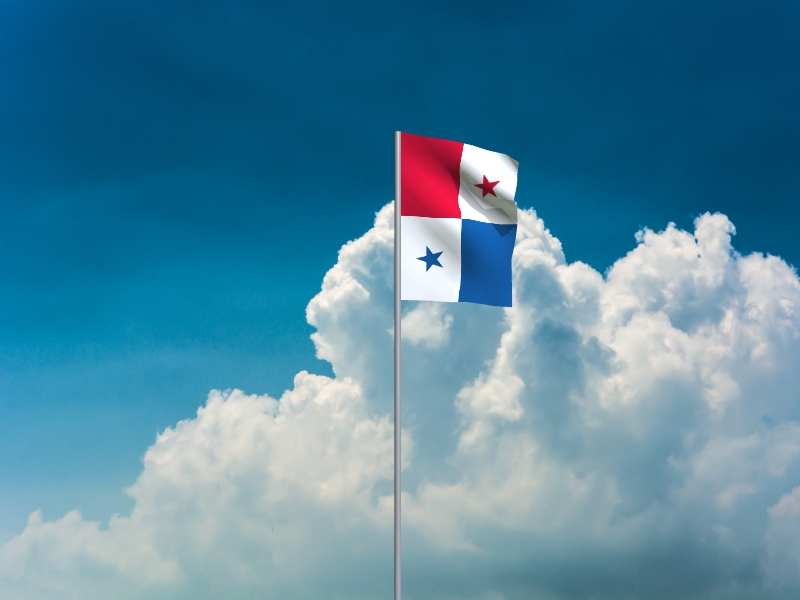pa: (401, 133, 520, 308)
